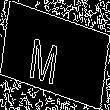M_N: (38, 26, 72, 84)
